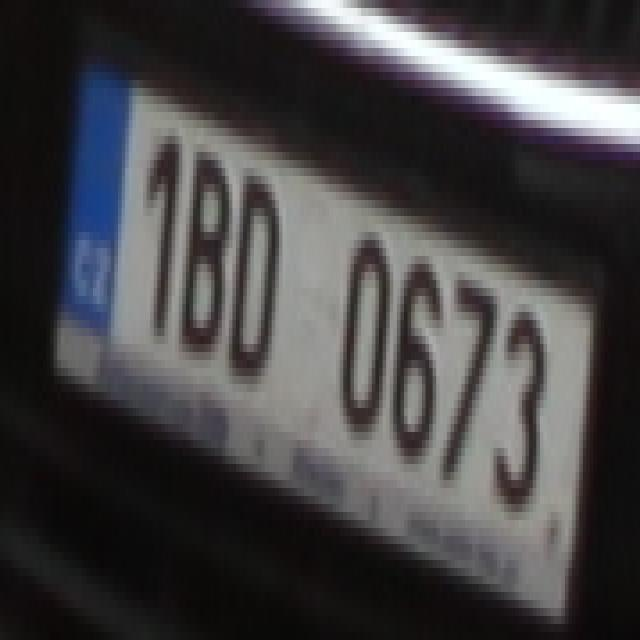0: (333, 200, 386, 448)
1: (140, 128, 182, 344)
3: (494, 232, 544, 528)
6: (386, 192, 443, 472)
7: (443, 208, 497, 504)
B: (179, 144, 229, 360)
D: (232, 136, 282, 384)
